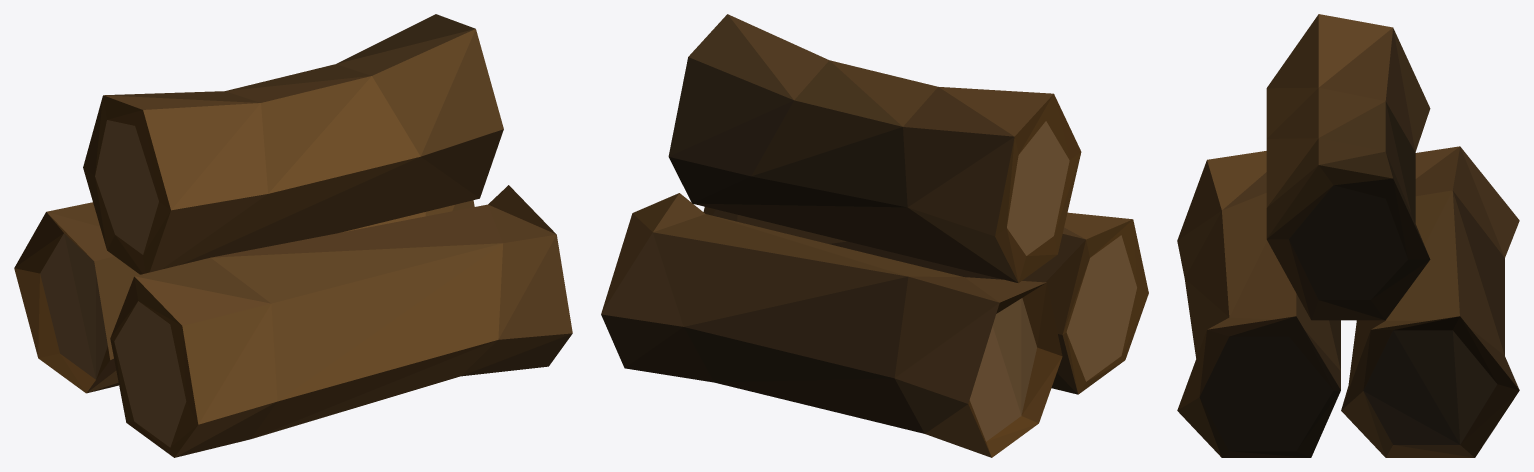
Rendered from oak-logs.obj.
3 renders of one model, left to right at view 1: azimuth 30°, elevation 25°; view 2: azimuth 150°, elevation 25°; view 3: azimuth 270°, elevation 25°, orthographic. The views are drawn at different scales.
Parts seen in each view (by area): view 1: Item Oak logs 2026-10-08_15-35-45; view 2: Item Oak logs 2026-10-08_15-35-45; view 3: Item Oak logs 2026-10-08_15-35-45.
Part boxes in pixels (x1,y1,x2,y2): Item Oak logs 2026-10-08_15-35-45: [14, 14, 572, 457]; Item Oak logs 2026-10-08_15-35-45: [601, 14, 1148, 457]; Item Oak logs 2026-10-08_15-35-45: [1177, 14, 1519, 457].
Bounding box in the file's own units: 54 × 42 × 46.
